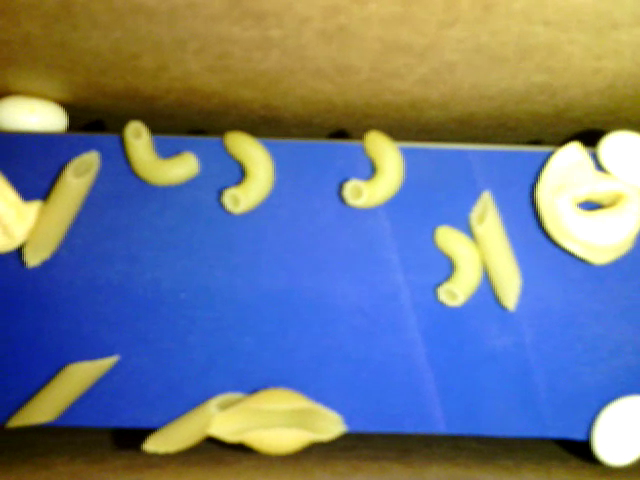elbow: (123, 117, 200, 185), (340, 129, 405, 208), (219, 129, 277, 215), (435, 224, 485, 308)
penne: (20, 149, 101, 268), (5, 354, 119, 427), (470, 189, 523, 311), (142, 393, 248, 452)
shell: (205, 387, 348, 456)
tortellini: (535, 141, 639, 263), (1, 169, 45, 254)
